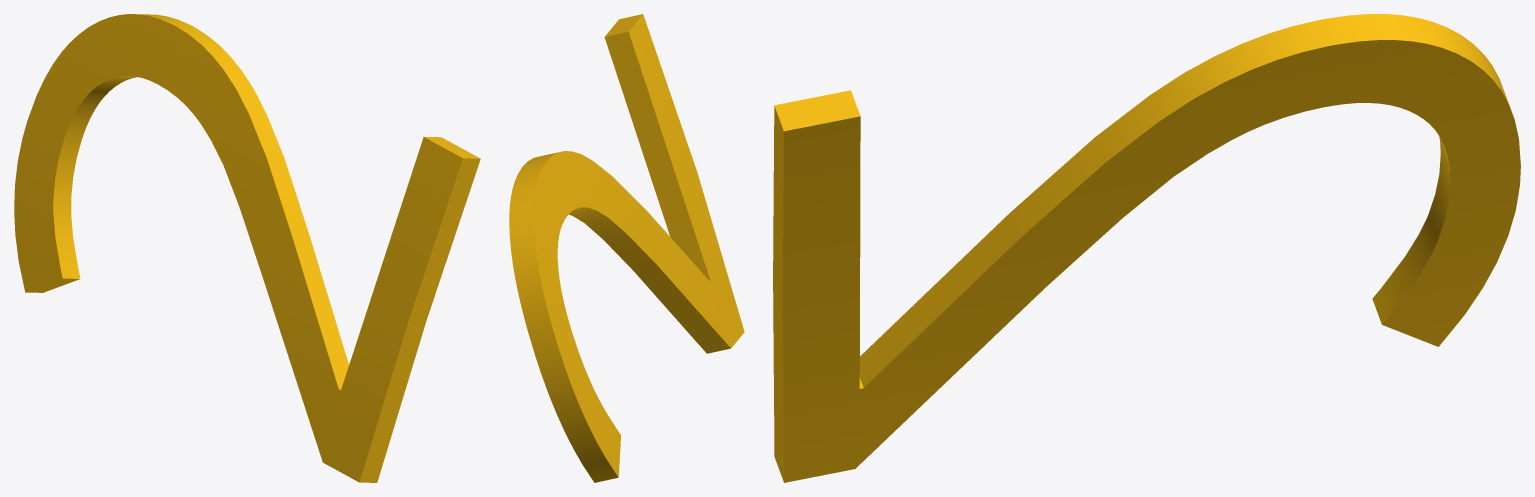
File: Number_2.gltf
The picture shows the model from 3 angles, left to right: view 1: azimuth 30°, elevation 25°; view 2: azimuth 150°, elevation 25°; view 3: azimuth 270°, elevation 25°; orthographic projection. The views are drawn at different scales.
Visible parts, largest first — view 1: Sub_9_Cell_3_1_Number_2; view 2: Sub_9_Cell_3_1_Number_2; view 3: Sub_9_Cell_3_1_Number_2.
Part boxes in pixels (x1,y1,x2,y2): Sub_9_Cell_3_1_Number_2: [14, 14, 480, 482]; Sub_9_Cell_3_1_Number_2: [509, 14, 744, 482]; Sub_9_Cell_3_1_Number_2: [773, 14, 1520, 482].
Bounding box in the file's own units: 0.0124 × 0.0168 × 0.0249.
